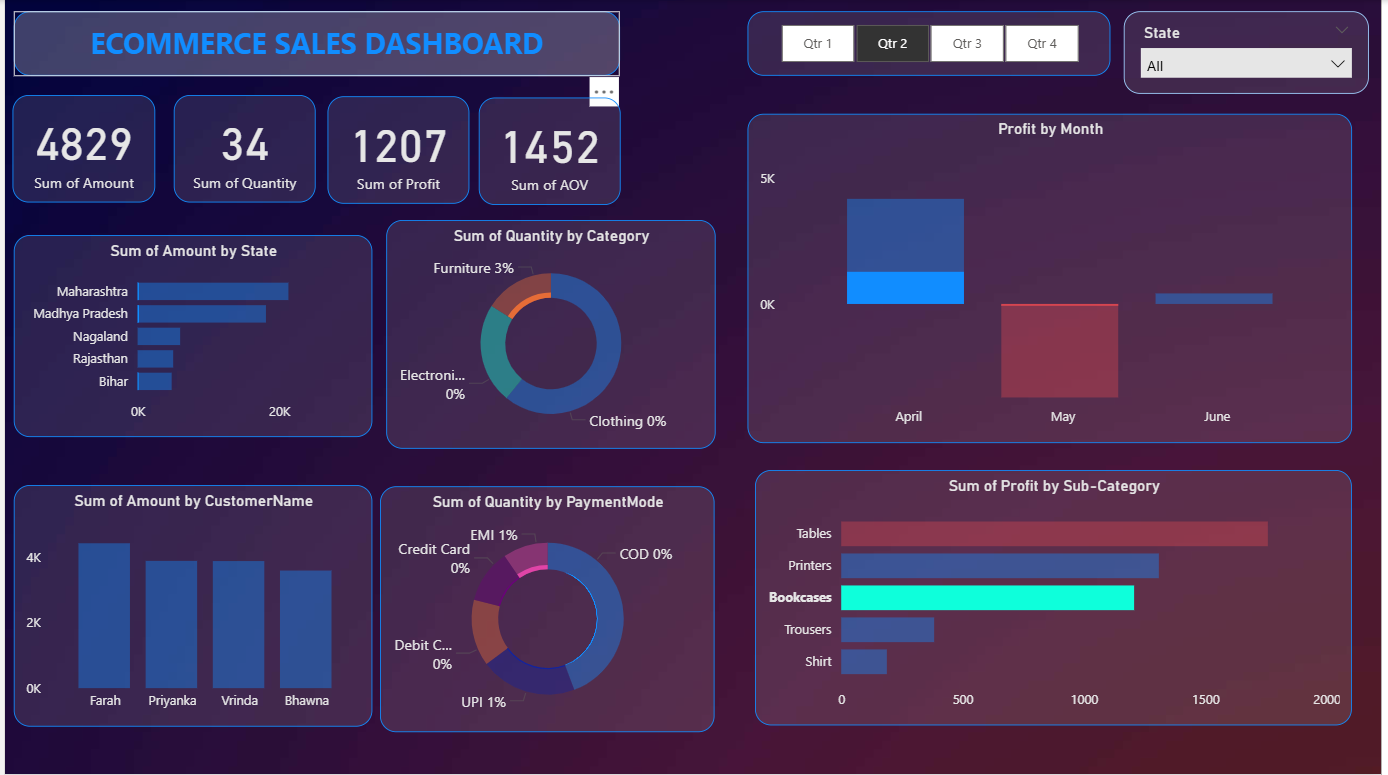

The dashboard page shown, as its layout file describes it:
{"tool":"powerbi","page":{"name":"Page 1","canvas":[1280,720],"ordinal":0},"visuals":[{"type":"textbox","box":[8.2,11,564,60.4],"z":0},{"type":"columnChart","title":"Profit by Month","fields":{"Category":["Orders.Order Date.Variation.Date Hierarchy.Month"],"Y":["Details.Profit"]},"box":[690.2,105.7,562.6,306],"z":1000},{"type":"barChart","fields":{"Category":["Details.Sub-Category"],"Y":["Details.Profit"]},"box":[697.4,437.7,555.5,237.4],"z":2000},{"type":"donutChart","fields":{"Y":["Details.Quantity"],"Category":["Details.Category"]},"box":[354.9,204.5,306,212.7],"z":3000},{"type":"donutChart","fields":{"Y":["Details.Quantity"],"Category":["Details.PaymentMode"]},"box":[349.4,452,311.5,229.2],"z":4000},{"type":"card","fields":{"Values":["Details.Amount"]},"box":[6.9,87.8,132.8,100.2],"z":5000},{"type":"card","fields":{"Values":["Details.Quantity"]},"box":[156.4,88.9,132,100.2],"z":6000},{"type":"card","fields":{"Values":["Details.Profit"]},"box":[300.5,89.5,131.7,100.2],"z":7000},{"type":"card","fields":{"Values":["Details.AOV"]},"box":[440.8,91.1,131.7,100.2],"z":8000},{"type":"barChart","fields":{"Category":["Orders.State"],"Y":["Details.Amount"]},"box":[8,218.5,333.4,188],"z":9000},{"type":"columnChart","fields":{"Category":["Orders.CustomerName"],"Y":["Details.Amount"]},"box":[8.2,451.5,333.4,224.8],"z":10000},{"type":"slicer","fields":{"Values":["Orders.Order Date.Variation.Date Hierarchy.Quarter"]},"box":[690.2,11,337.6,60.4],"z":11000},{"type":"slicer","fields":{"Values":["Orders.State"]},"box":[1040.1,11,227.8,76.8],"z":12000}]}

Visuals, with their boxes in screenshot pixels (x1, y1, x2, y2), scaled from the page's 1280x720 canvas onto the 1388x775 screenshot:
textbox: bbox=(9, 12, 620, 77)
"Profit by Month" columnChart: bbox=(748, 114, 1359, 443)
barChart - Details.Sub-Category x Details.Profit: bbox=(756, 471, 1359, 727)
donutChart - Details.Quantity x Details.Category: bbox=(385, 220, 717, 449)
donutChart - Details.Quantity x Details.PaymentMode: bbox=(379, 487, 717, 733)
card - Details.Amount: bbox=(7, 95, 151, 202)
card - Details.Quantity: bbox=(170, 96, 313, 204)
card - Details.Profit: bbox=(326, 96, 469, 204)
card - Details.AOV: bbox=(478, 98, 621, 206)
barChart - Orders.State x Details.Amount: bbox=(9, 235, 370, 438)
columnChart - Orders.CustomerName x Details.Amount: bbox=(9, 486, 370, 728)
slicer - Orders.Order Date.Variation.Date Hierarchy.Quarter: bbox=(748, 12, 1115, 77)
slicer - Orders.State: bbox=(1128, 12, 1375, 95)
